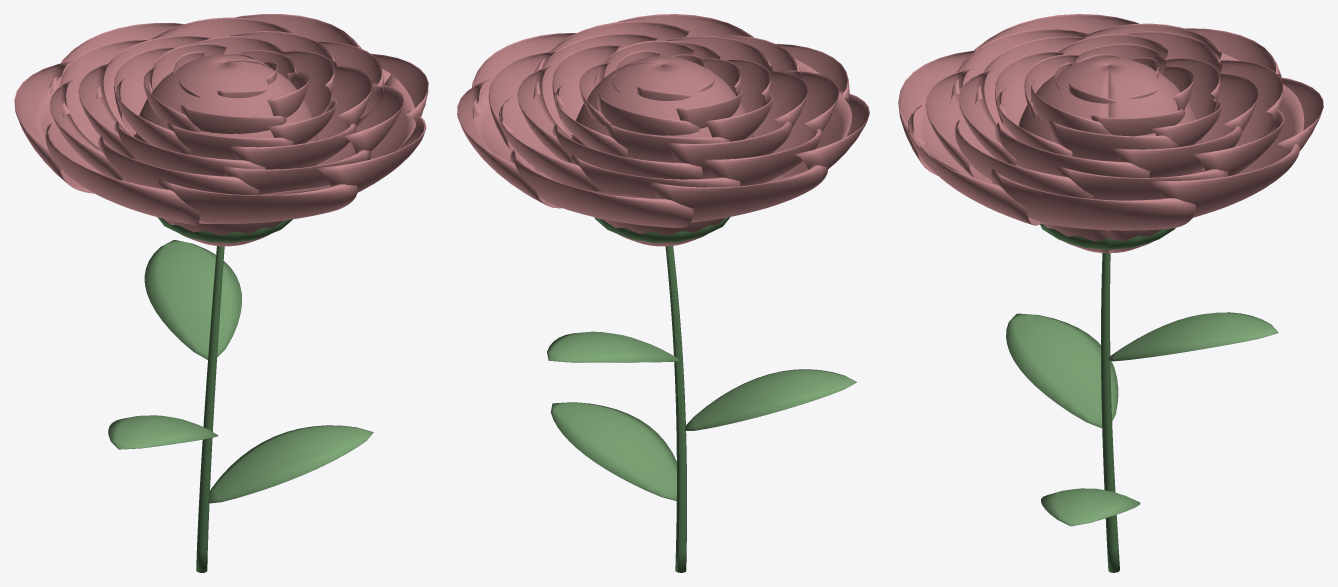
File: rose-rare-v2.glb
3 views of the same model, side by side, from view 1: azimuth 30°, elevation 25°; view 2: azimuth 150°, elevation 25°; view 3: azimuth 270°, elevation 25° (orthographic). The views are drawn at different scales.
Parts seen in each view (by area): view 1: rose-rare-v2-petal, rose-rare-v2-leaf, rose-rare-v2-stem; view 2: rose-rare-v2-petal, rose-rare-v2-leaf, rose-rare-v2-stem; view 3: rose-rare-v2-petal, rose-rare-v2-leaf, rose-rare-v2-stem.
Part boxes in pixels (left/top/right/bottom): rose-rare-v2-petal: left=14, top=14, right=428, bottom=246; rose-rare-v2-leaf: left=108, top=240, right=373, bottom=503; rose-rare-v2-stem: left=157, top=217, right=292, bottom=572; rose-rare-v2-petal: left=457, top=14, right=869, bottom=246; rose-rare-v2-leaf: left=547, top=331, right=856, bottom=500; rose-rare-v2-stem: left=594, top=217, right=730, bottom=572; rose-rare-v2-petal: left=898, top=14, right=1323, bottom=253; rose-rare-v2-leaf: left=1006, top=312, right=1278, bottom=526; rose-rare-v2-stem: left=1040, top=223, right=1175, bottom=572.
Size of the model in its own units: 1.22 by 1.64 by 1.22.
